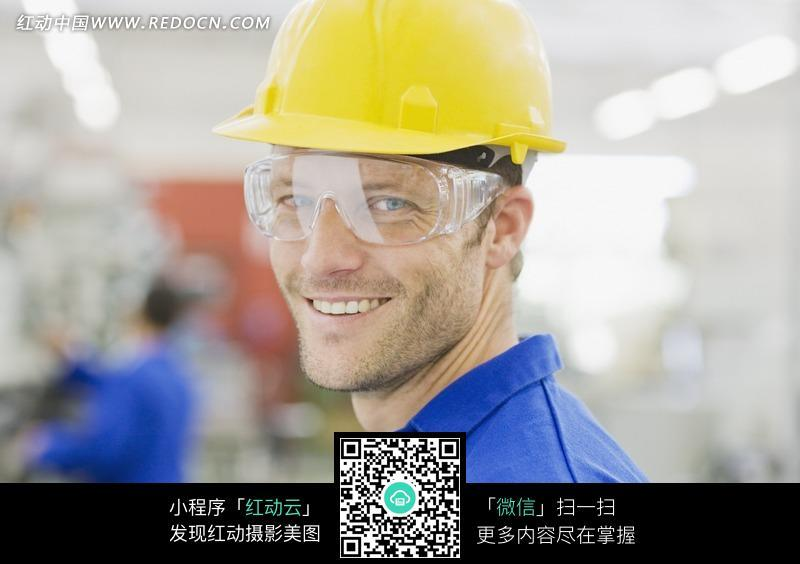helmet: (205, 1, 575, 172)
